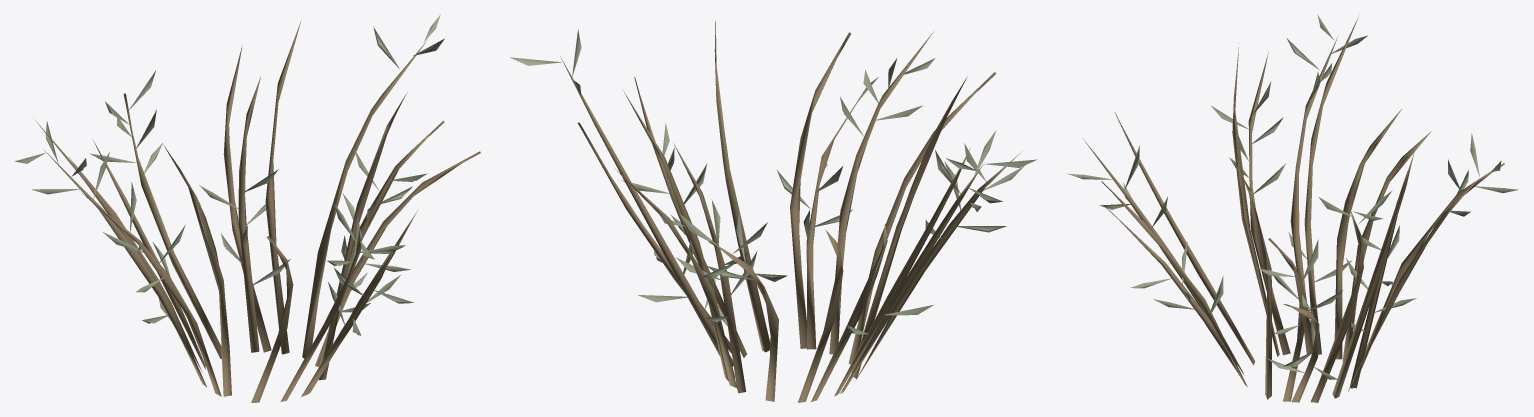
File: Immortelle_0_Niveau2.fbx
3 renders of one model, left to right at view 1: azimuth 30°, elevation 25°; view 2: azimuth 150°, elevation 25°; view 3: azimuth 270°, elevation 25°, orthographic. The views are drawn at different scales.
Visible parts, largest first — view 1: Immortelle_0_Niveau2; view 2: Immortelle_0_Niveau2; view 3: Immortelle_0_Niveau2.
Part boxes in pixels (bbox=[...]): Immortelle_0_Niveau2: bbox=[14, 14, 480, 402]; Immortelle_0_Niveau2: bbox=[510, 21, 1036, 402]; Immortelle_0_Niveau2: bbox=[1067, 14, 1518, 402].
Size of the model in its own units: 40.33 by 24.35 by 36.2.
